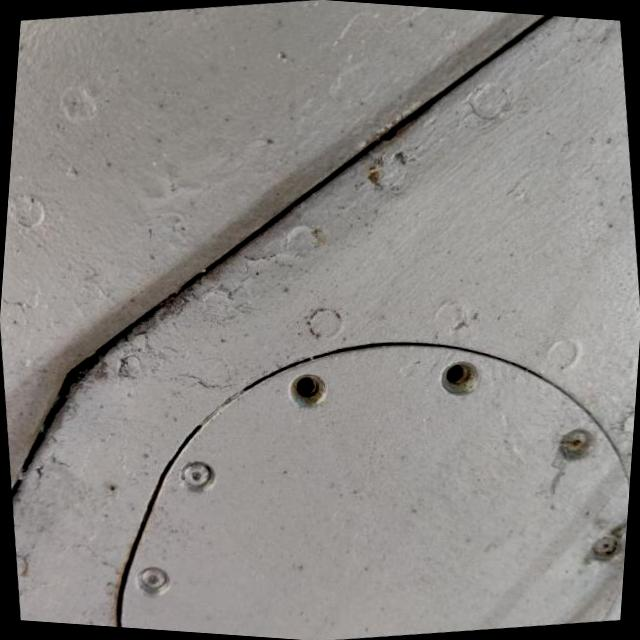Missing Fastener: (290, 373, 326, 408), (443, 361, 480, 395)
